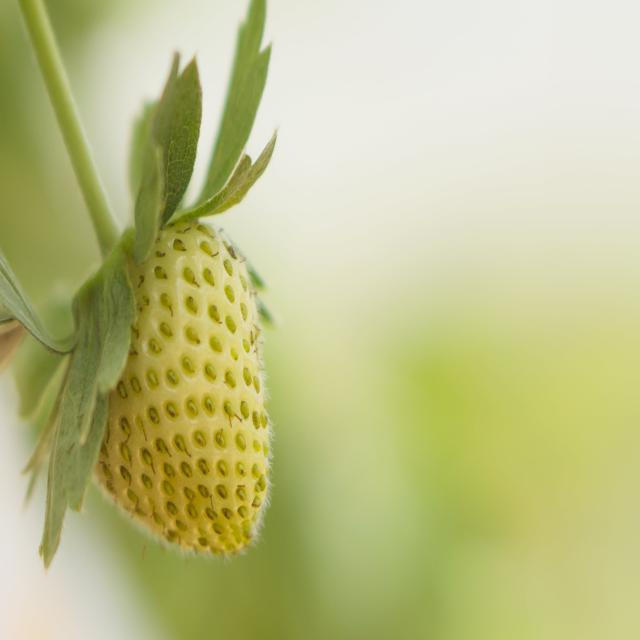immature: (86, 220, 270, 556)
